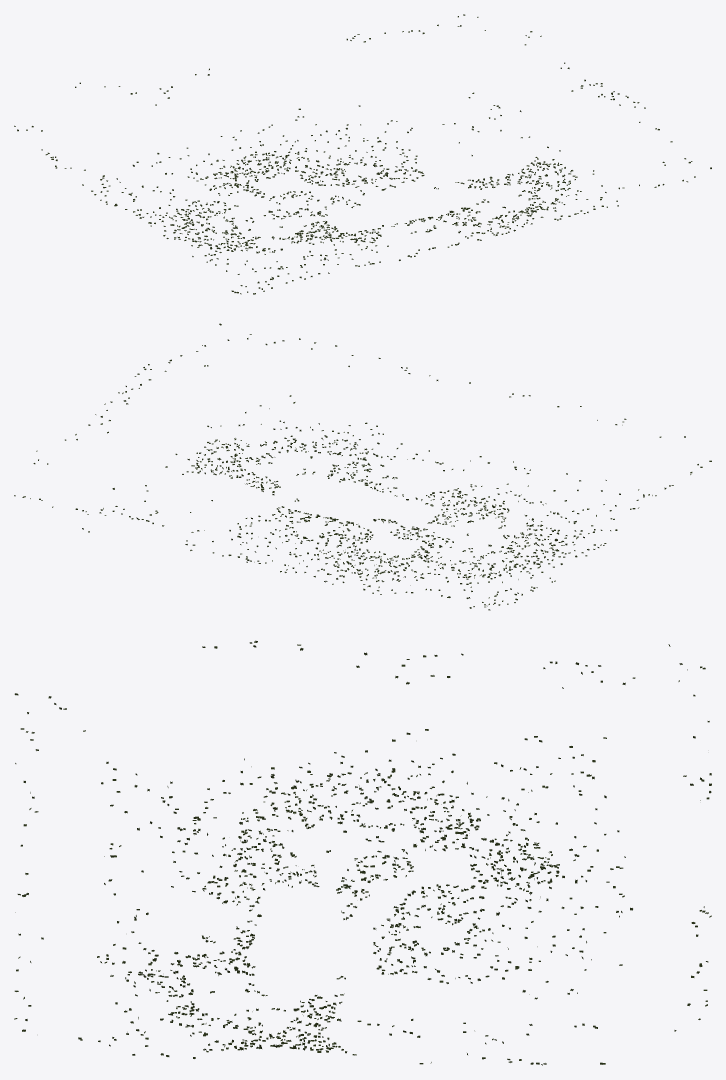
Rendered from SM_Art_Cover_L_WarCurrent_GrassBlades.gltf.
3 renders of one model, top to bottom at view 1: azimuth 30°, elevation 25°; view 2: azimuth 150°, elevation 25°; view 3: azimuth 270°, elevation 25°, orthographic. The views are drawn at different scales.
Visible parts, largest first — view 1: SM_Art_Cover_L_WarCurrent_GrassBlades; view 2: SM_Art_Cover_L_WarCurrent_GrassBlades; view 3: SM_Art_Cover_L_WarCurrent_GrassBlades.
Part boxes in pixels (x1,y1,x2,y2): SM_Art_Cover_L_WarCurrent_GrassBlades: (14, 14, 711, 294); SM_Art_Cover_L_WarCurrent_GrassBlades: (14, 323, 711, 610); SM_Art_Cover_L_WarCurrent_GrassBlades: (14, 640, 711, 1065).
Size of the model in its own units: 226 by 35.32 by 177.
1 material, 1 textured.
